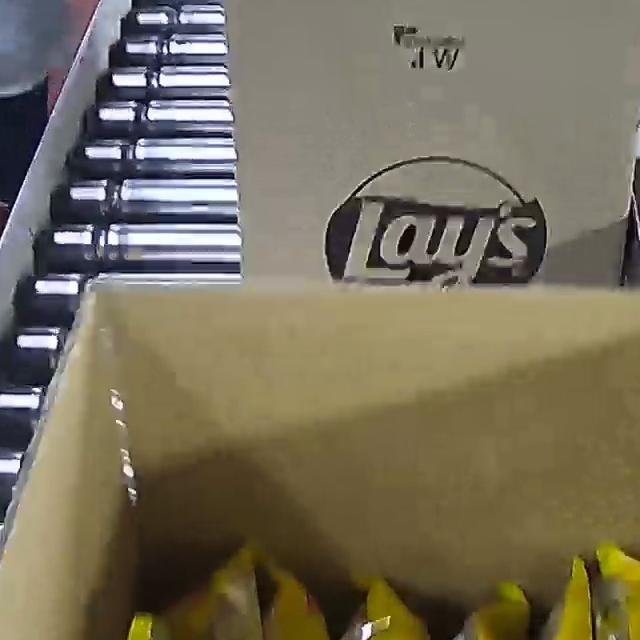salted: (86, 536, 640, 640)
